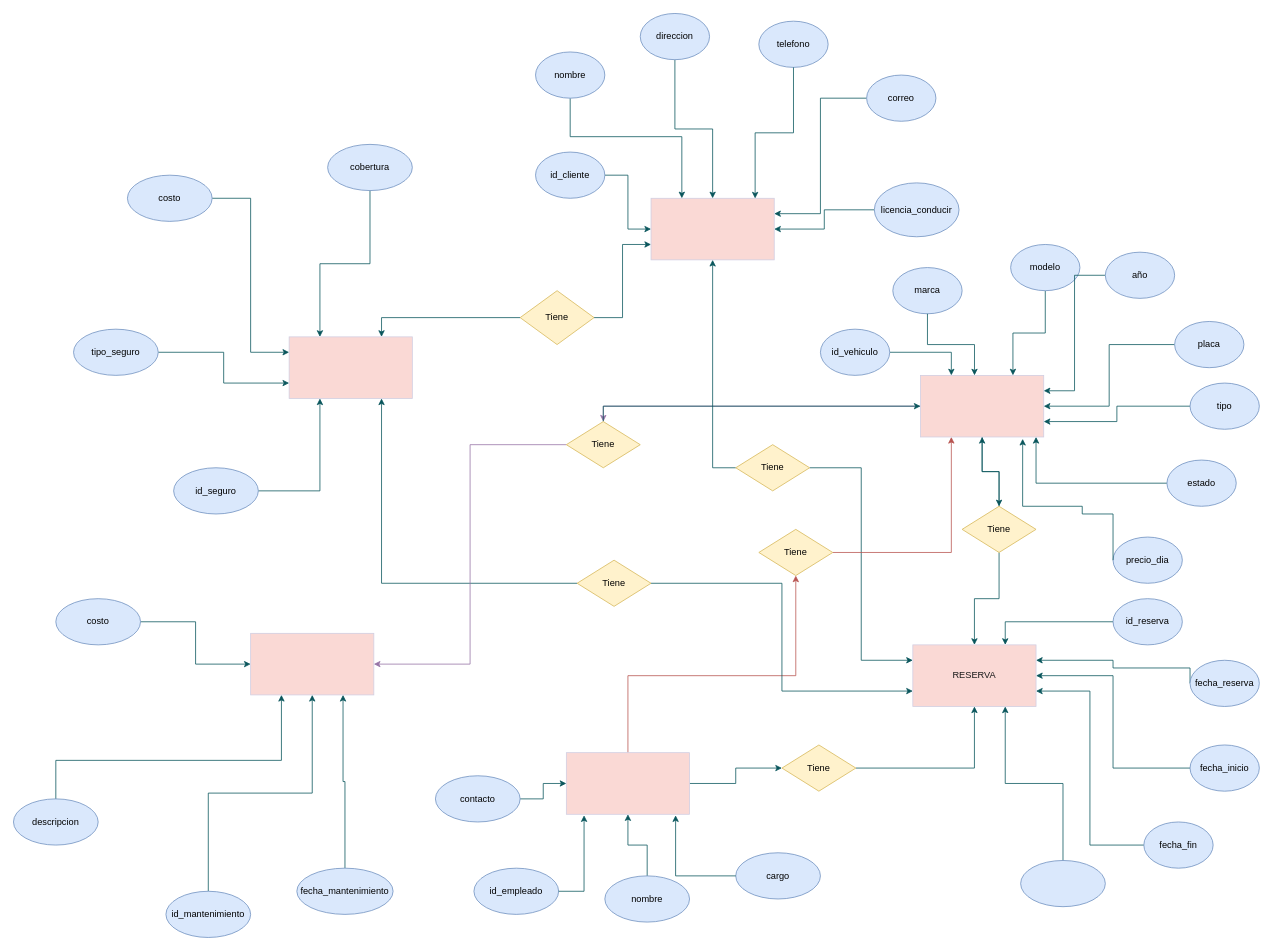
This 1273x951 diagram has some shape labels left out. Here are the shapes that lost their labels. From the top down, the centre of each, then its label:
At [712,229]: "CLIENTE".
At [350,367]: "SEGURO".
At [982,406]: "VEHICULO".
At [312,664]: "MANTENIMIENTO".
At [628,783]: "EMPLEADO".
At [1062,883]: "total_pagar".
